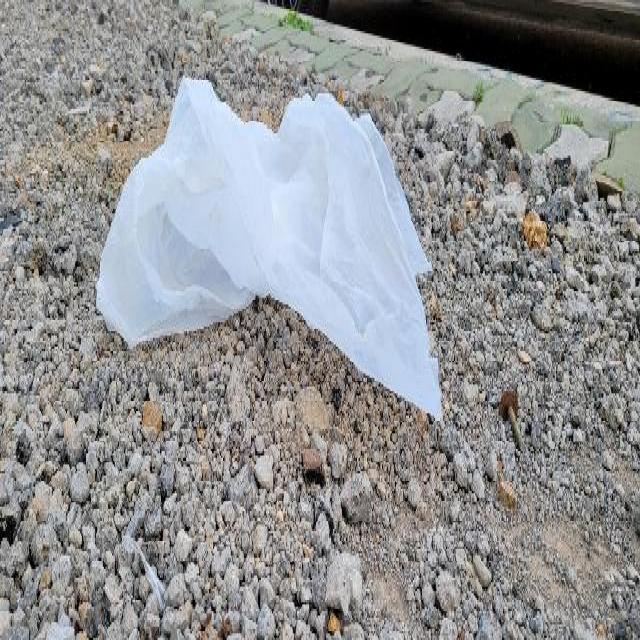plastic bag: (93, 70, 446, 428)
